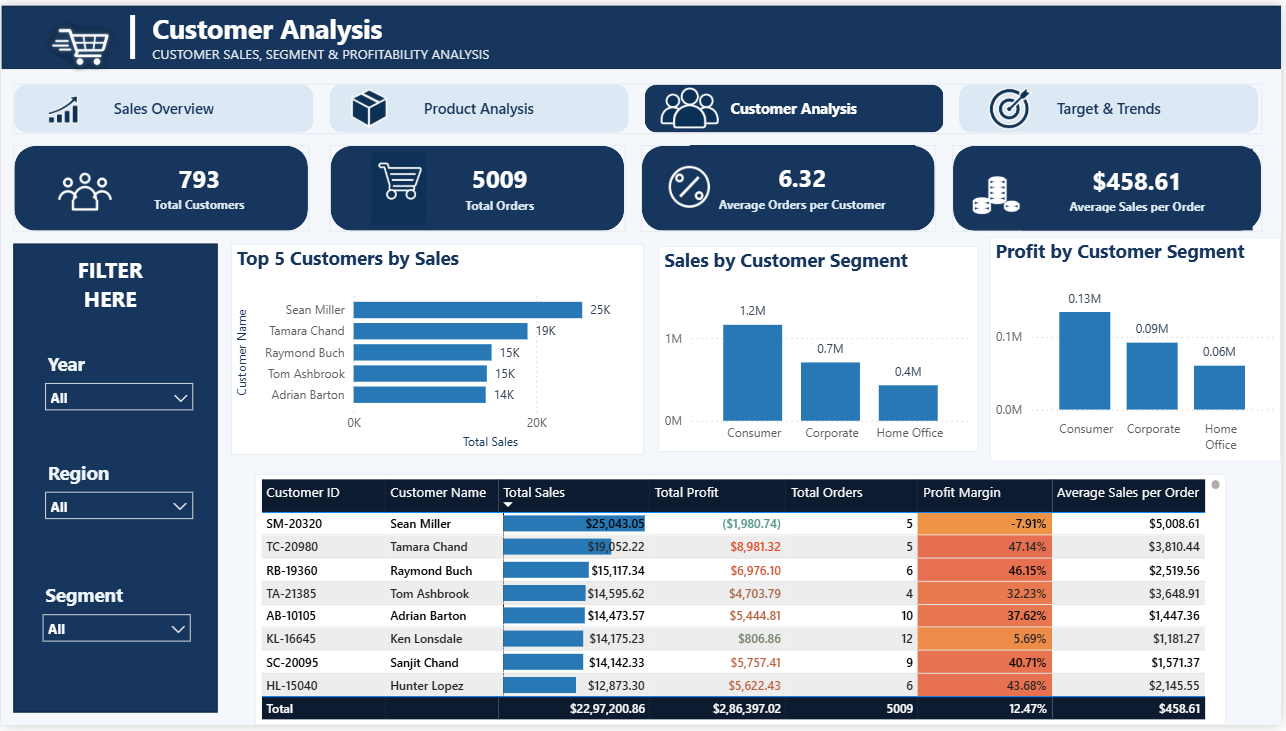

Layout of this report page (visuals, bound fields, positions):
{"tool":"powerbi","page":{"name":"Customer Analysis","canvas":[1280,720],"ordinal":2},"visuals":[{"type":"shape","box":[640,140,295,87],"z":0},{"type":"shape","box":[12.9,140,295.7,87],"z":1000},{"type":"shape","box":[328.6,140,295.7,87],"z":2000},{"type":"shape","box":[951.4,140,310,87.1],"z":3000},{"type":"shape","box":[0,0,1400,65],"z":4000},{"type":"textbox","box":[145.7,0,957.1,65.7],"z":5000},{"type":"image","box":[10,10,142.9,65.7],"z":6000},{"type":"pageNavigator","box":[12.9,78.6,1248.6,50],"z":7000},{"type":"cardVisual","fields":{"Data":["Fact_Sales.Total Orders"]},"box":[398.6,142.9,200,81],"z":8000},{"type":"image","box":[108.6,251.4,121.4,42.9],"z":9000},{"type":"shape","box":[12.9,238.6,204.3,468.6],"z":10000},{"type":"slicer","title":"Year","fields":{"Values":["Dim_Date.Year"]},"box":[34.3,341.4,168.6,78.6],"z":11000},{"type":"slicer","fields":{"Values":["Fact_Sales.Region"]},"box":[34.3,450,168,78],"z":12000},{"type":"slicer","title":"Segment","fields":{"Values":["Fact_Sales.Segment"]},"box":[31.4,572.9,168.6,78.6],"z":13000},{"type":"image","box":[951.4,155.7,87.1,67.1],"z":14000},{"type":"image","box":[537.1,298.6,87.1,67.1],"z":15000},{"type":"image","box":[977.1,78.6,61.4,48.6],"z":17000},{"type":"image","box":[34.3,87.1,57.1,34.3],"z":18000},{"type":"image","box":[657.1,75.7,61.4,52.9],"z":19000},{"type":"image","box":[337.1,82.9,61.4,41.4],"z":20000},{"type":"shape","box":[108.6,10,45.7,44.3],"z":21000},{"type":"cardVisual","fields":{"Data":["Fact_Sales.Average Sales per Order"]},"box":[1021.4,144.3,230,81.4],"z":22000},{"type":"cardVisual","fields":{"Data":["Dim_Date.Total Customers"]},"box":[115.7,142.9,164.3,79],"z":23000},{"type":"cardVisual","fields":{"Data":["Dim_Date.Average Orders per Customer"]},"box":[688.6,140,225.7,84.3],"z":24000},{"type":"clusteredBarChart","title":"Top 5 Customers by Sales","fields":{"Category":["Fact_Sales.Customer Name"],"Y":["Fact_Sales.Total Sales"]},"box":[230,238.6,412.9,211.4],"z":25000},{"type":"clusteredColumnChart","title":"Sales by Customer Segment","fields":{"Category":["Fact_Sales.Segment"],"Y":["Fact_Sales.Total Sales"]},"box":[657.1,241.4,320,205.7],"z":26000},{"type":"clusteredColumnChart","title":"Profit by Customer Segment","fields":{"Category":["Fact_Sales.Segment"],"Y":["Fact_Sales.Total Profit"]},"box":[988.6,232.9,291.4,224.3],"z":27000},{"type":"tableEx","fields":{"Values":["Fact_Sales.Customer ID","Fact_Sales.Customer Name","Fact_Sales.Total Sales","Fact_Sales.Total Profit","Fact_Sales.Total Orders","Fact_Sales.Profit Margin","Fact_Sales.Average Sales per Order"]},"box":[254.3,468.6,971.4,251.4],"z":28000},{"type":"image","box":[48.6,160,70,55.7],"z":29000},{"type":"image","box":[657.1,154.3,61.4,55.7],"z":30000},{"type":"textbox","box":[40,227.1,138.6,92.9],"z":31000},{"type":"image","box":[348.6,147.1,98.6,72.9],"z":32000}]}

Visuals, with their boxes in screenshot pixels (x1, y1, x2, y2), scaled from the page's 1280x720 canvas onto the 1286x731 screenshot:
shape: <bbox>643, 142, 939, 230</bbox>
shape: <bbox>13, 142, 310, 230</bbox>
shape: <bbox>330, 142, 627, 230</bbox>
shape: <bbox>956, 142, 1267, 231</bbox>
shape: <bbox>0, 0, 1285, 66</bbox>
textbox: <bbox>146, 0, 1108, 67</bbox>
image: <bbox>10, 10, 154, 77</bbox>
pageNavigator: <bbox>13, 80, 1267, 131</bbox>
cardVisual - Fact_Sales.Total Orders: <bbox>400, 145, 601, 227</bbox>
image: <bbox>109, 255, 231, 299</bbox>
shape: <bbox>13, 242, 218, 718</bbox>
"Year" slicer: <bbox>34, 347, 204, 426</bbox>
slicer - Fact_Sales.Region: <bbox>34, 457, 203, 536</bbox>
"Segment" slicer: <bbox>32, 582, 201, 661</bbox>
image: <bbox>956, 158, 1043, 226</bbox>
image: <bbox>540, 303, 627, 371</bbox>
image: <bbox>982, 80, 1043, 129</bbox>
image: <bbox>34, 88, 92, 123</bbox>
image: <bbox>660, 77, 722, 131</bbox>
image: <bbox>339, 84, 400, 126</bbox>
shape: <bbox>109, 10, 155, 55</bbox>
cardVisual - Fact_Sales.Average Sales per Order: <bbox>1026, 147, 1257, 229</bbox>
cardVisual - Dim_Date.Total Customers: <bbox>116, 145, 281, 225</bbox>
cardVisual - Dim_Date.Average Orders per Customer: <bbox>692, 142, 919, 228</bbox>
"Top 5 Customers by Sales" clusteredBarChart: <bbox>231, 242, 646, 457</bbox>
"Sales by Customer Segment" clusteredColumnChart: <bbox>660, 245, 982, 454</bbox>
"Profit by Customer Segment" clusteredColumnChart: <bbox>993, 236, 1285, 464</bbox>
tableEx - Fact_Sales.Customer ID x Fact_Sales.Customer Name: <bbox>255, 476, 1231, 730</bbox>
image: <bbox>49, 162, 119, 219</bbox>
image: <bbox>660, 157, 722, 213</bbox>
textbox: <bbox>40, 231, 179, 325</bbox>
image: <bbox>350, 149, 449, 223</bbox>
